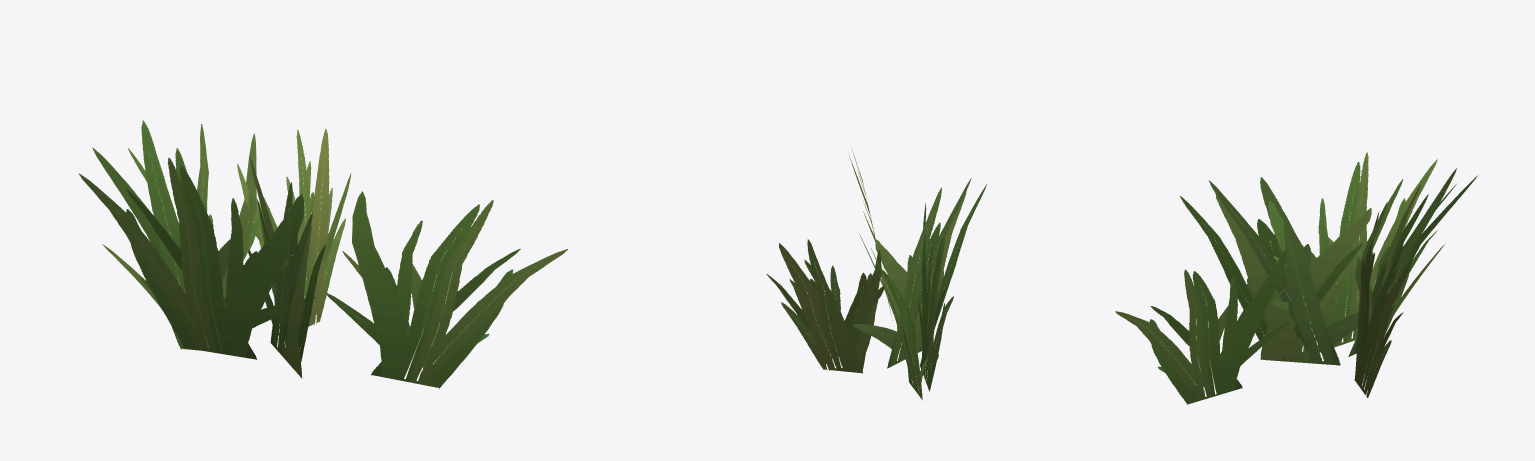
File: forest_grass_002_a_LOD1.gltf
3 renders of one model, left to right at view 1: azimuth 30°, elevation 25°; view 2: azimuth 150°, elevation 25°; view 3: azimuth 270°, elevation 25°, orthographic. The views are drawn at different scales.
Visible parts, largest first — view 1: forest_grass_002_a_LOD1; view 2: forest_grass_002_a_LOD1; view 3: forest_grass_002_a_LOD1.
Part boxes in pixels (x1,y1,x2,y2): forest_grass_002_a_LOD1: (79,120,567,388); forest_grass_002_a_LOD1: (766,150,986,400); forest_grass_002_a_LOD1: (1115,152,1477,404).
Bounding box in the file's own units: 0.7448 × 0.5412 × 0.7376.
Materials: 1 (1 with a texture image).
